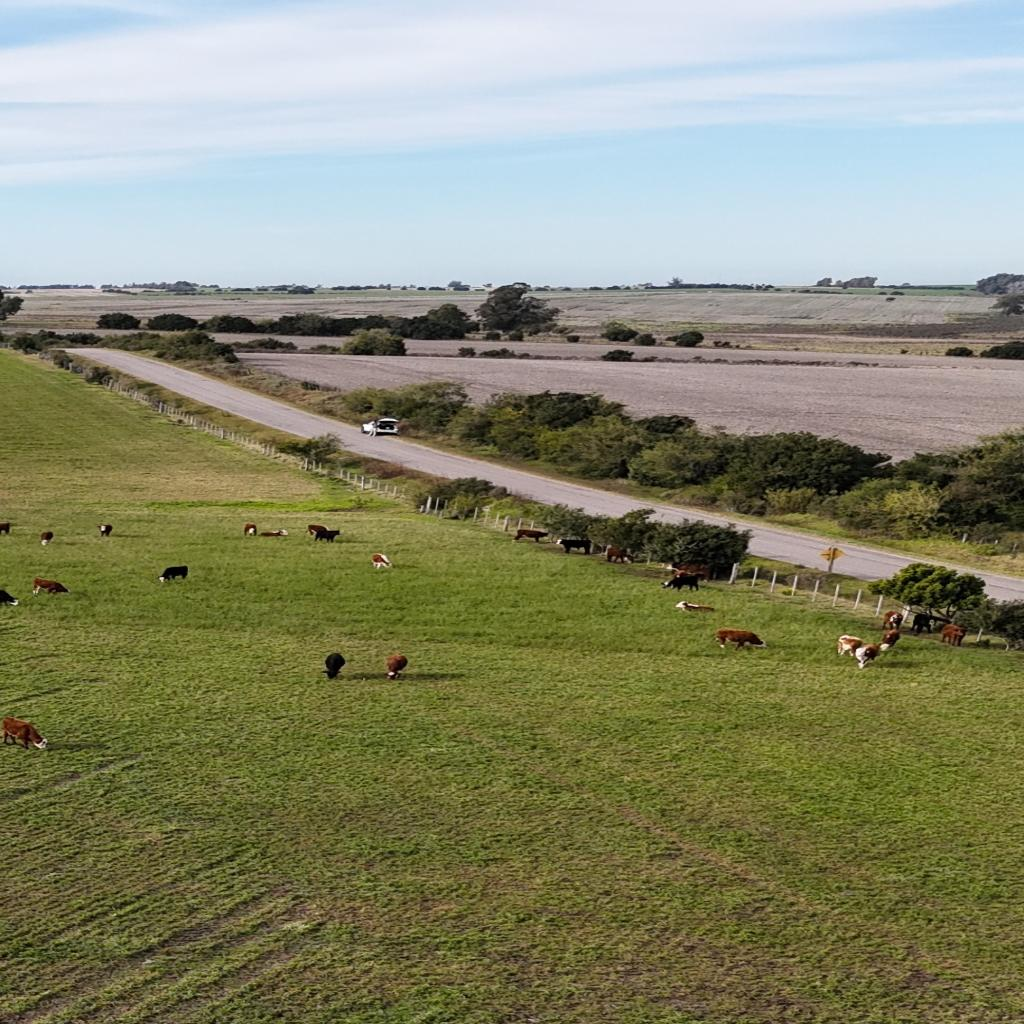cow: (0, 718, 50, 751), (712, 628, 770, 652), (853, 644, 886, 668), (319, 652, 347, 680), (32, 577, 72, 596), (662, 573, 704, 591), (384, 654, 408, 680), (940, 624, 966, 647), (558, 538, 592, 555), (513, 529, 550, 543), (604, 546, 632, 564), (837, 634, 864, 652), (158, 566, 188, 582), (674, 601, 715, 612), (880, 628, 900, 650), (309, 528, 339, 542), (882, 612, 903, 632), (370, 553, 392, 569), (261, 528, 290, 536), (39, 531, 53, 546), (0, 521, 13, 535), (99, 524, 112, 537), (243, 524, 256, 536), (511, 534, 525, 542), (157, 576, 167, 584)
